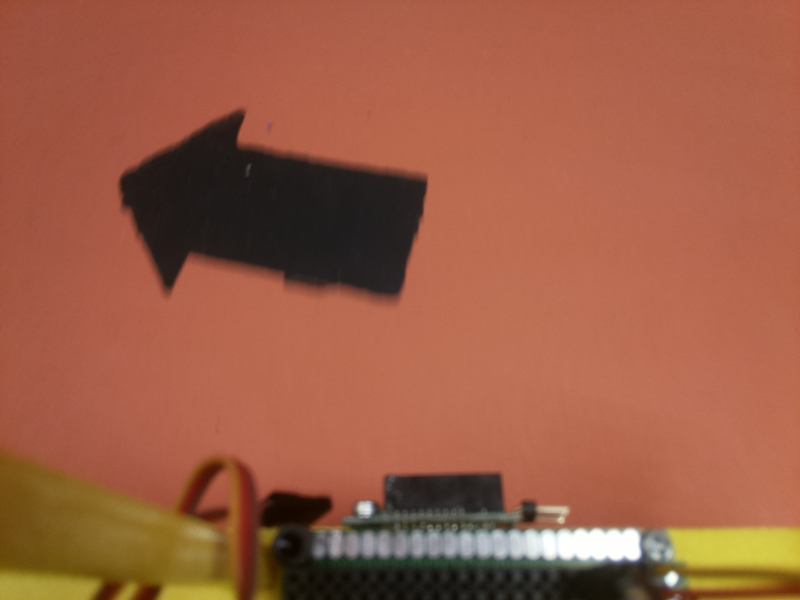start: (100, 108, 429, 337)
